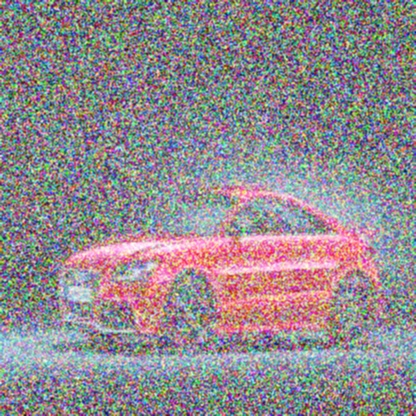Vehicle: (53, 181, 389, 363)
